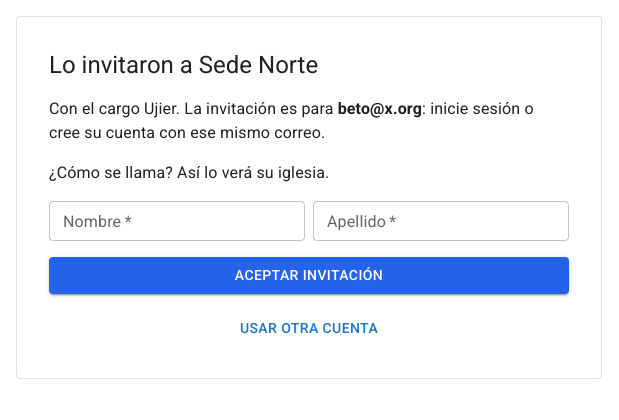
Test: InvitationAccept › when the invitation has no name › does not accept without both names
Type "Beto" into the field labelled "Nombre *" at {"x": 177, "y": 221}, box [49,201,305,241]
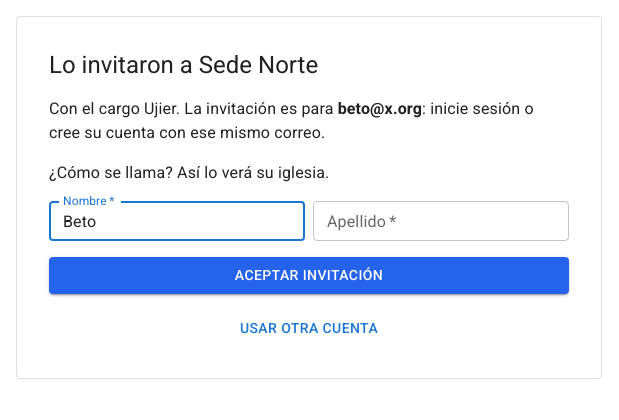
Click the button "Aceptar invitación" at {"x": 309, "y": 275}, box [49,257,569,294]
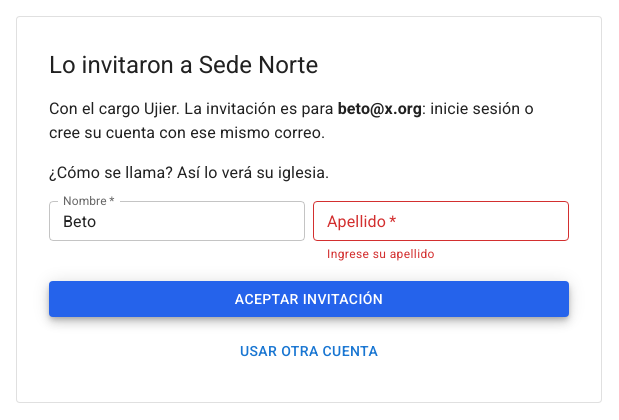
expect the text "Ingrese su apellido" is shown: met, box [327,247,435,261]
